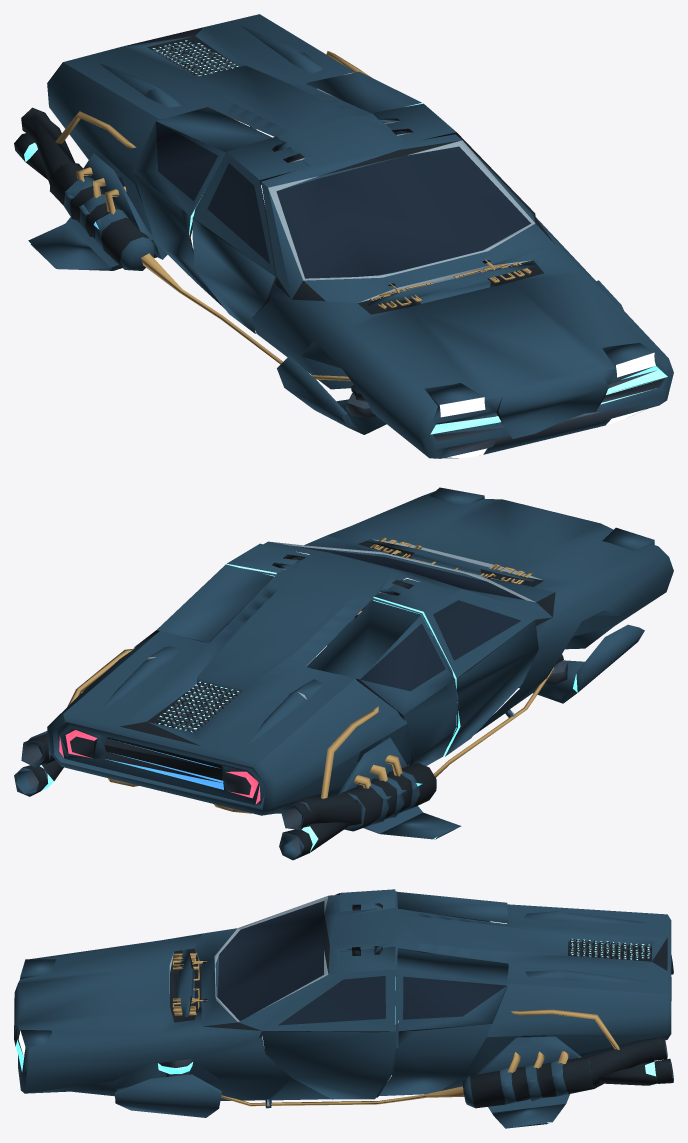
File: maglev.glb
3 renders of one model, top to bottom at view 1: azimuth 30°, elevation 25°; view 2: azimuth 150°, elevation 25°; view 3: azimuth 270°, elevation 25°, orthographic. The views are drawn at different scales.
Visible parts, largest first — view 1: maglev; view 2: maglev; view 3: maglev.
Part boxes in pixels (box(x1,y1,x2,y2)): maglev: box(14, 14, 673, 458); maglev: box(14, 487, 673, 860); maglev: box(14, 889, 673, 1128).
Bounding box in the file's own units: 1.51 × 0.6112 × 2.55.
